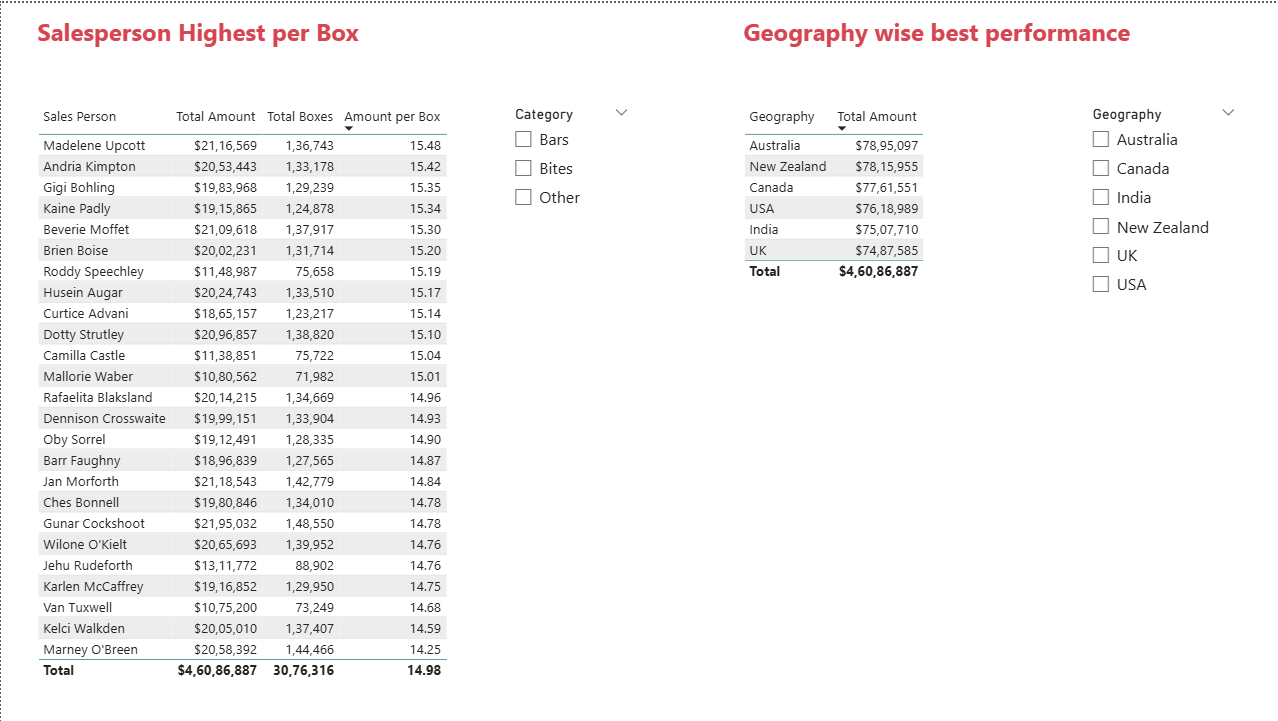

Layout of this report page (visuals, bound fields, positions):
{"tool":"powerbi","page":{"name":"SALE PERSON HIGHEST PER BOX","canvas":[1280,720],"ordinal":0},"visuals":[{"type":"tableEx","fields":{"Values":["sales.Sales Person","sales.Total Amount","sales.Total Boxes","sales.Amount per Box"]},"box":[31.8,97.8,434.1,589.4],"z":0},{"type":"slicer","fields":{"Values":["products.Category"]},"box":[501.4,97.8,138.2,126],"z":1000},{"type":"tableEx","fields":{"Values":["sales.Geography","sales.Total Amount"]},"box":[737.4,97.8,289.8,193.2],"z":2000},{"type":"textbox","box":[31.8,7.3,450,57.5],"z":3000},{"type":"textbox","box":[737.4,7.3,490.4,57.5],"z":4000},{"type":"slicer","fields":{"Values":["sales.Geography"]},"box":[1078.5,97.8,167.5,212.8],"z":5000}]}

Visuals, with their boxes in screenshot pixels (x1, y1, x2, y2), scaled from the page's 1280x720 canvas onto the 1278x721 screenshot:
tableEx - sales.Sales Person x sales.Total Amount: x1=32, y1=98, x2=465, y2=688
slicer - products.Category: x1=501, y1=98, x2=639, y2=224
tableEx - sales.Geography x sales.Total Amount: x1=736, y1=98, x2=1026, y2=291
textbox: x1=32, y1=7, x2=481, y2=65
textbox: x1=736, y1=7, x2=1226, y2=65
slicer - sales.Geography: x1=1077, y1=98, x2=1244, y2=311
